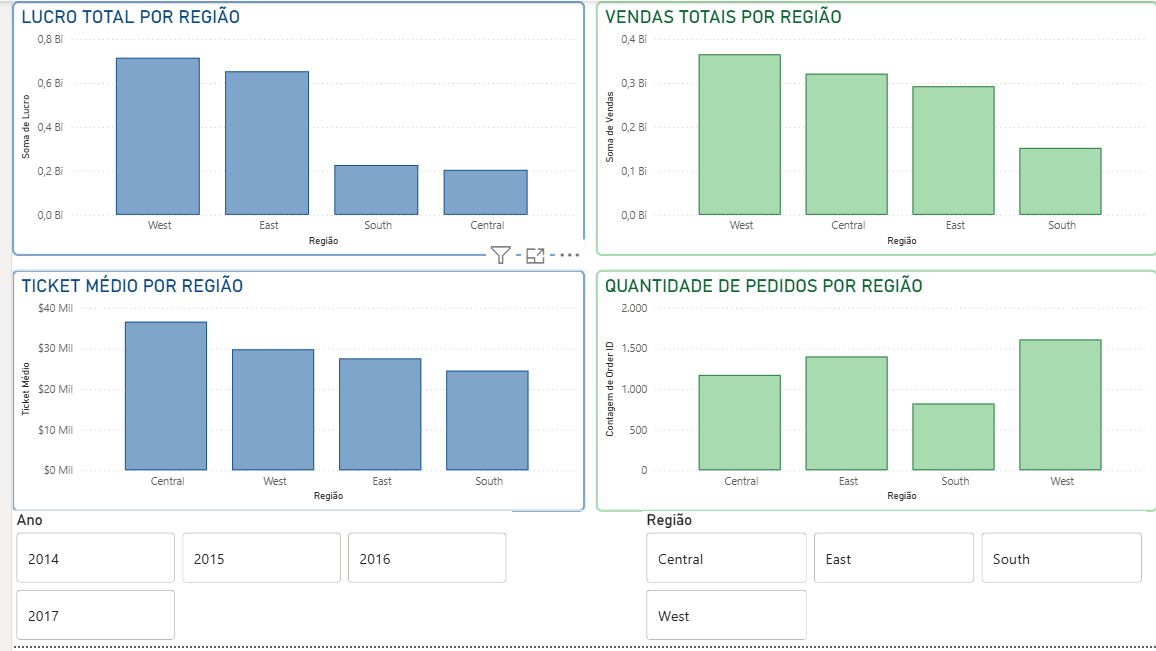

The page's visual inventory and layout, read from the dashboard file:
{"tool":"powerbi","page":{"name":"Análise por Região","canvas":[1280,720],"ordinal":1},"visuals":[{"type":"lineClusteredColumnComboChart","title":"VENDAS TOTAIS POR REGIÃO","fields":{"Y":["Sum(Sample - Superstore.Sales)"],"Category":["DimRegiao.Região"]},"box":[652.2,0,628,285.1],"z":0},{"type":"lineClusteredColumnComboChart","title":"LUCRO TOTAL POR REGIÃO","fields":{"Y":["Sum(Sample - Superstore.Profit)"],"Category":["DimRegiao.Região"]},"box":[0,0,640.1,285.1],"z":1000},{"type":"lineClusteredColumnComboChart","title":"TICKET MÉDIO POR REGIÃO","fields":{"Y":["Sample - Superstore.Ticket Médio"],"Category":["DimRegiao.Região"]},"box":[0,299.9,640.1,270.3],"z":2000},{"type":"lineClusteredColumnComboChart","title":"QUANTIDADE DE PEDIDOS POR REGIÃO","fields":{"Category":["DimRegiao.Região"],"Y":["Count(Sample - Superstore.Order ID)"]},"box":[652.2,299.9,628,270.3],"z":3000},{"type":"advancedSlicerVisual","fields":{"Values":["Sample - Superstore.Order Date.Variation.Hierarquia de datas.Ano"]},"box":[0,570.2,558.1,149.3],"z":4000},{"type":"advancedSlicerVisual","fields":{"Values":["Sample - Superstore.Região"]},"box":[703.3,570.2,563.5,149.3],"z":4001}]}

Visuals, with their boxes in screenshot pixels (x1, y1, x2, y2), scaled from the page's 1280x720 canvas onto the 1156x651 screenshot:
"VENDAS TOTAIS POR REGIÃO" lineClusteredColumnComboChart: l=589, t=0, r=1155, b=258
"LUCRO TOTAL POR REGIÃO" lineClusteredColumnComboChart: l=0, t=0, r=578, b=258
"TICKET MÉDIO POR REGIÃO" lineClusteredColumnComboChart: l=0, t=271, r=578, b=516
"QUANTIDADE DE PEDIDOS POR REGIÃO" lineClusteredColumnComboChart: l=589, t=271, r=1155, b=516
advancedSlicerVisual - Sample - Superstore.Order Date.Variation.Hierarquia de datas.Ano: l=0, t=516, r=504, b=650
advancedSlicerVisual - Sample - Superstore.Região: l=635, t=516, r=1144, b=650
